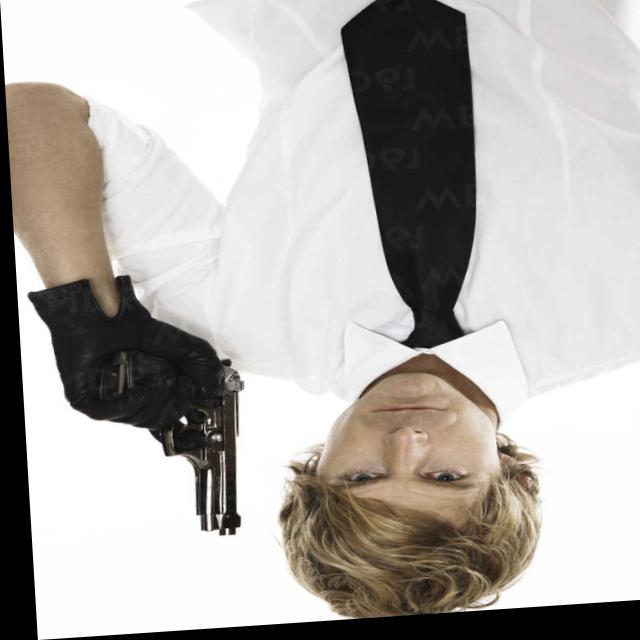handgun: (151, 361, 250, 546)
